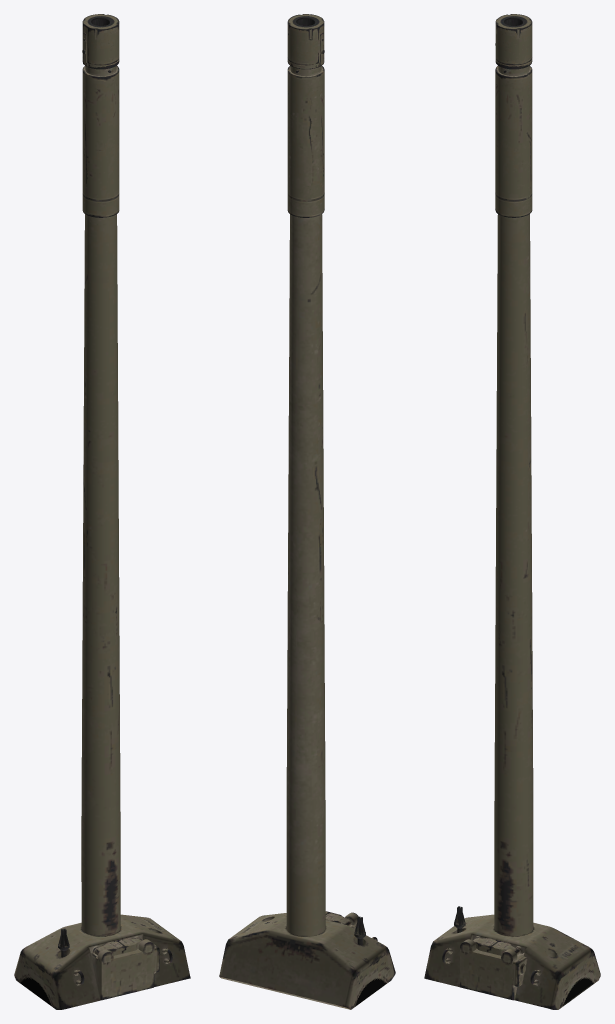
Rendered from Gun_01.glb.
3 views of the same model, side by side, from view 1: azimuth 30°, elevation 25°; view 2: azimuth 150°, elevation 25°; view 3: azimuth 330°, elevation 25° (orthographic).
Parts seen in each view (by area): view 1: set_0_group_0; view 2: set_0_group_0; view 3: set_0_group_0.
Boxes of the visible parts, x1,y1,x2,y2 form: set_0_group_0: [14, 14, 190, 1009]; set_0_group_0: [219, 14, 395, 1009]; set_0_group_0: [424, 14, 600, 1009].
Bounding box in the file's own units: 0.8523 × 6.01 × 0.5725.
1 material, 1 textured.
